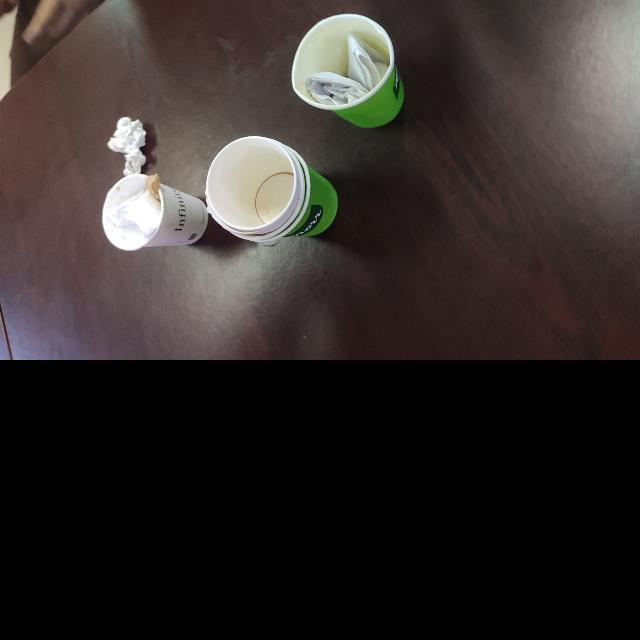kitchen paper: (110, 118, 151, 172)
